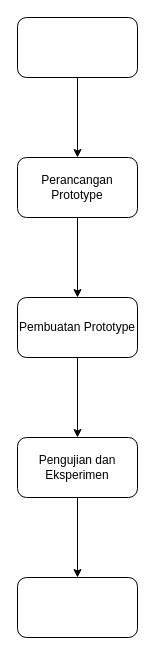
Some shapes in this 155 by 655 pixel diagram are drawn without their labels. Here are the shapes that lost their labels. From the top down, the centre of each, then its label:
At point (77, 47): "Observasi sistem".
At point (77, 607): "Analisis dan Evaluasi".
